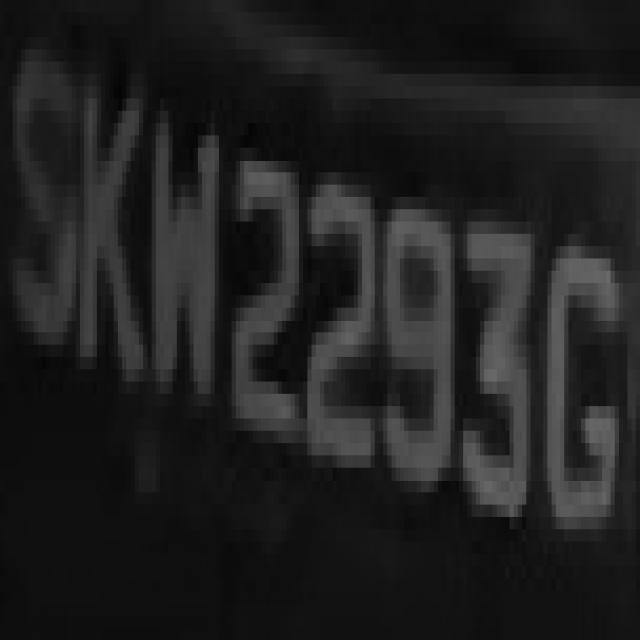2: (228, 86, 304, 505), (312, 123, 388, 529)
3: (459, 135, 543, 591)
9: (375, 110, 459, 542)
G: (539, 160, 623, 591)
K: (80, 37, 147, 418)
S: (13, 12, 80, 394)
W: (152, 37, 223, 455)
